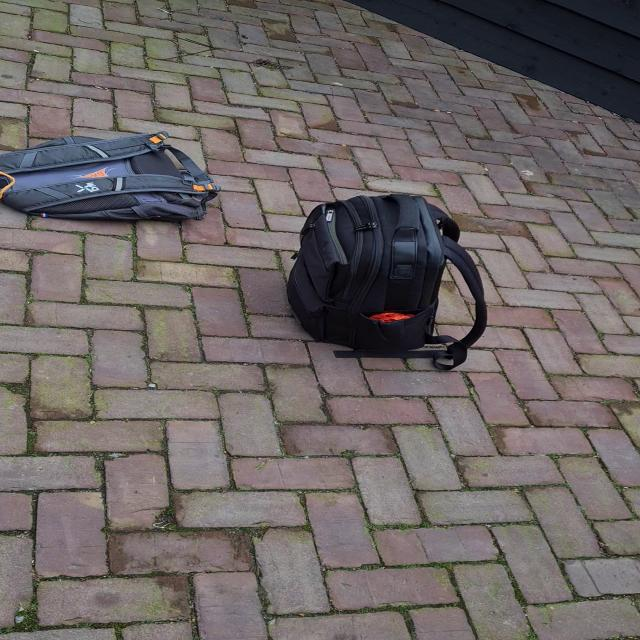backpack: (274, 185, 477, 357), (0, 128, 227, 224)
